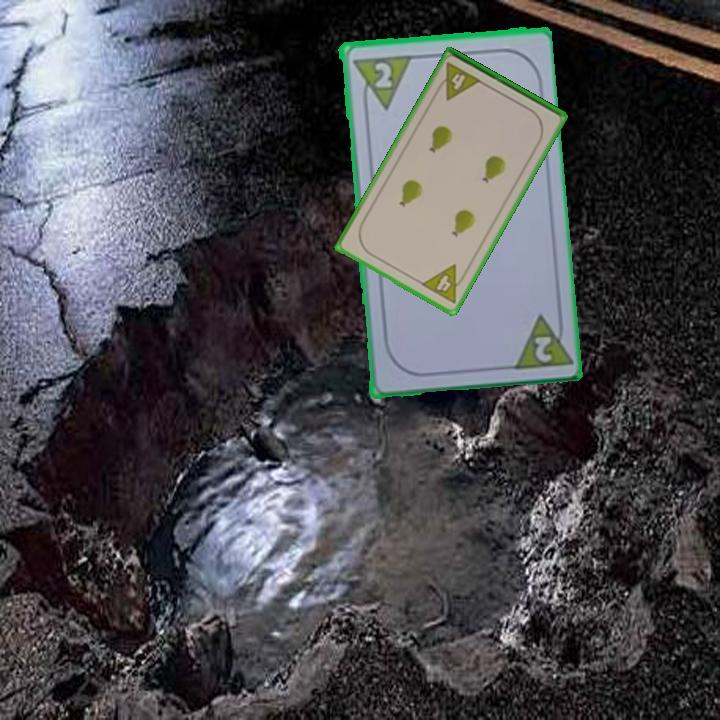2p: (507, 308, 573, 373), (348, 50, 413, 114)
4p: (417, 261, 471, 306), (432, 59, 484, 103)
